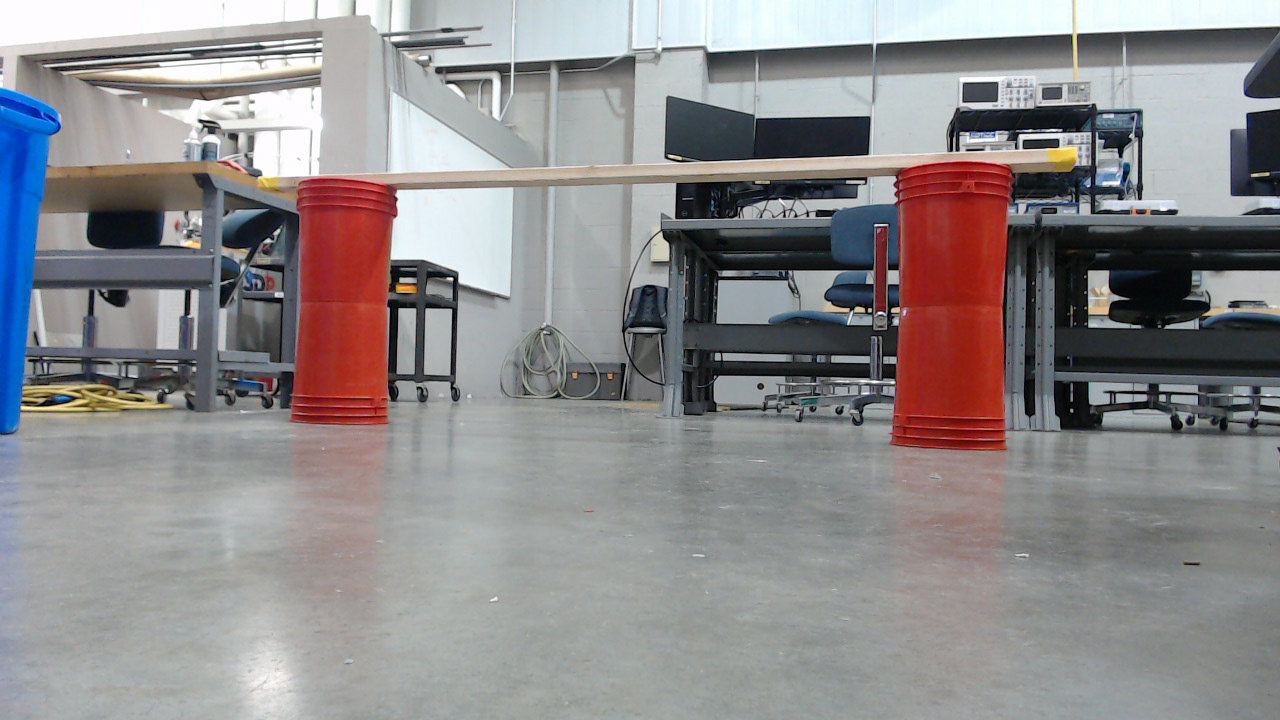red_bucket_arch: (288, 149, 1030, 461)
